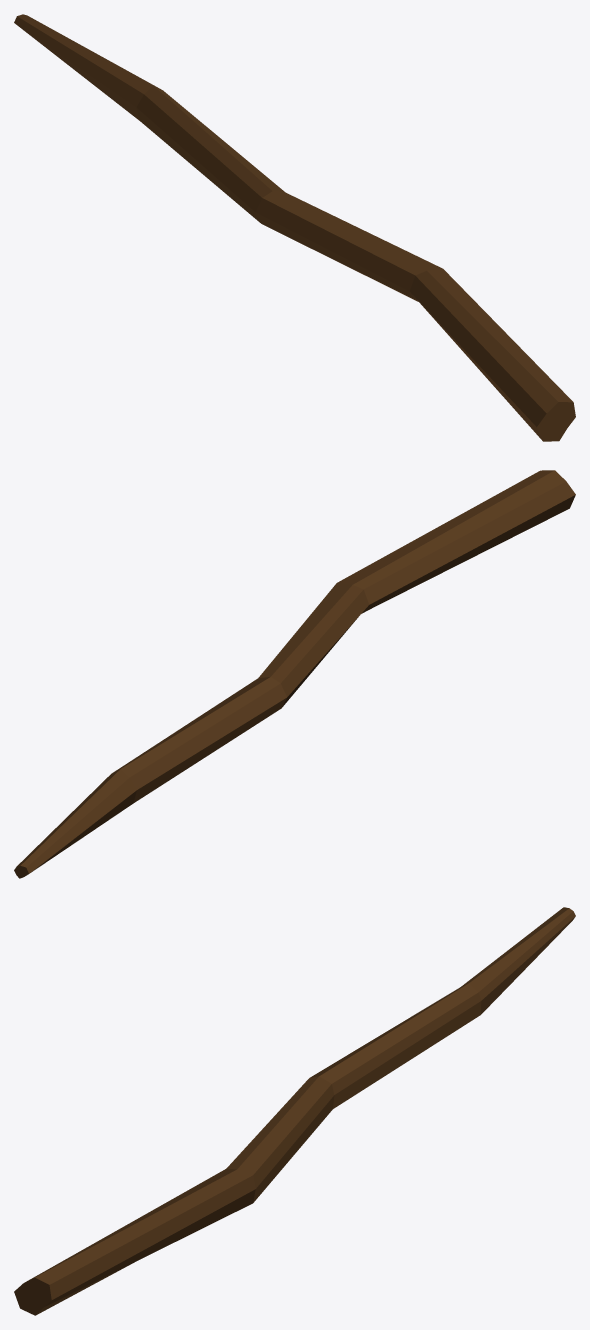
File: Stick.fbx
The picture shows the model from 3 angles, top to bottom: view 1: azimuth 30°, elevation 25°; view 2: azimuth 150°, elevation 25°; view 3: azimuth 330°, elevation 25°; orthographic projection. The views are drawn at different scales.
Visible parts, largest first — view 1: Stick; view 2: Stick; view 3: Stick.
Boxes of the visible parts, x1,y1,x2,y2 form: Stick: (14,14,575,441); Stick: (14,470,575,878); Stick: (14,907,575,1315).
Bounding box in the file's own units: 8.62 × 4.19 × 102.
